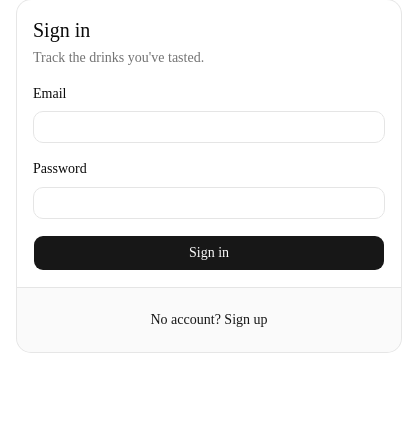
Scenario: AuthScreen › switches back to sign in after creating an account
Click the button "No account? Sign up" at (209, 320), box [140, 304, 278, 336]
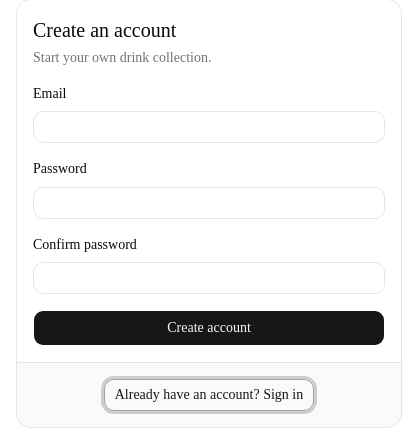
Type "new@sipdex.io" into the field labelled "Email" at (209, 127), box [33, 111, 385, 143]
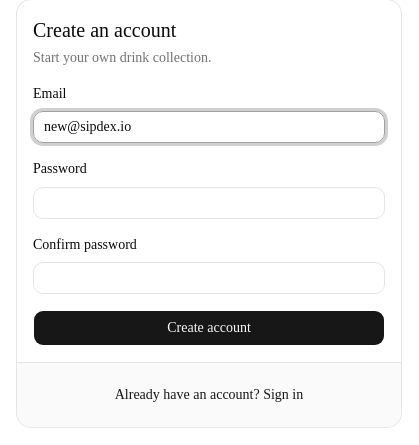
Type "Password123!" into the password field labelled "Password" at (209, 202), box [33, 186, 385, 218]
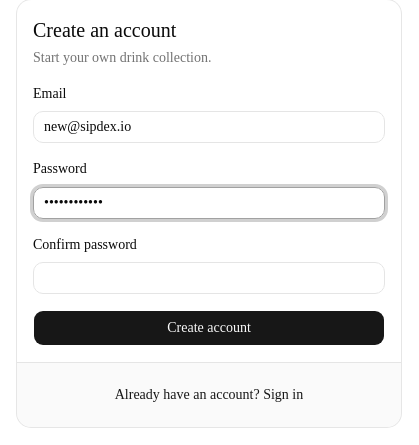
Type "Password123!" into the password field labelled "Confirm password" at (209, 278), box [33, 262, 385, 294]
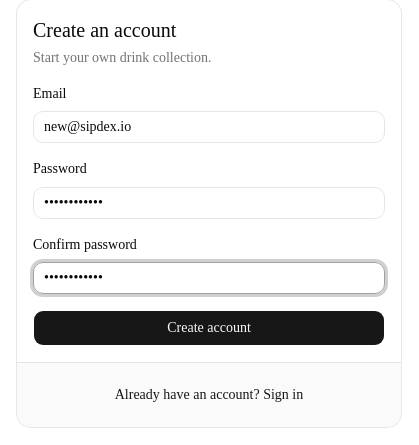
Click the button "Create account" at (209, 328), box [33, 310, 385, 346]
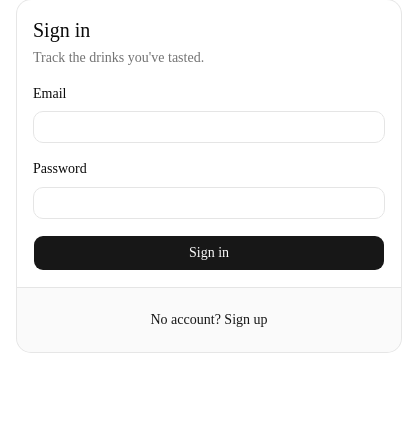
Check: the button "Sign in" is shown, box [33, 234, 385, 270]
